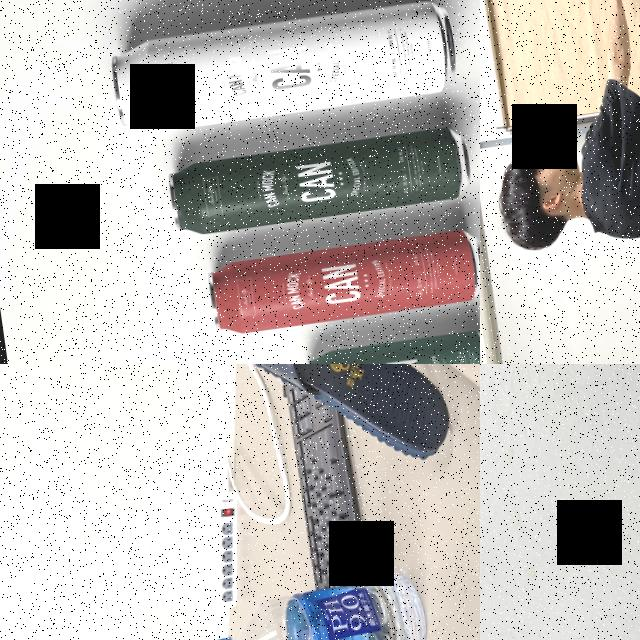bottle: (201, 566, 435, 640)
can: (104, 0, 458, 137), (163, 124, 473, 240), (200, 219, 480, 335), (304, 325, 480, 364)
